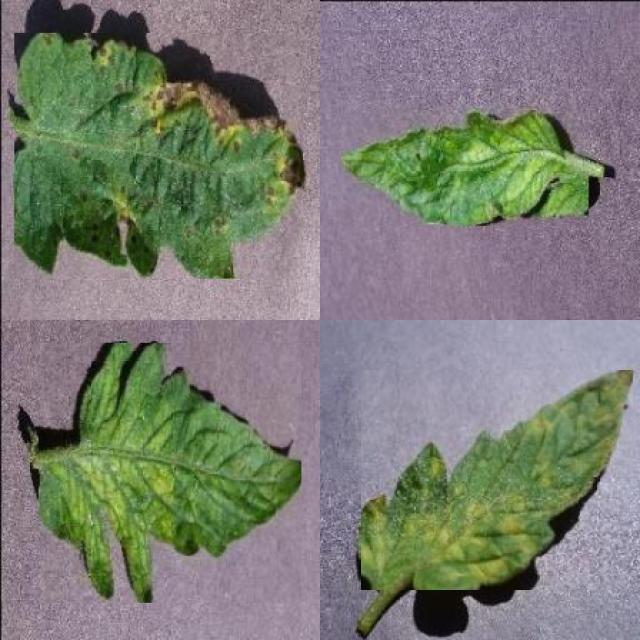Leaf Mold: (360, 370, 633, 590)
Mosaic Virus: (38, 343, 302, 603), (338, 106, 588, 226)
Septoria: (14, 34, 303, 279)
